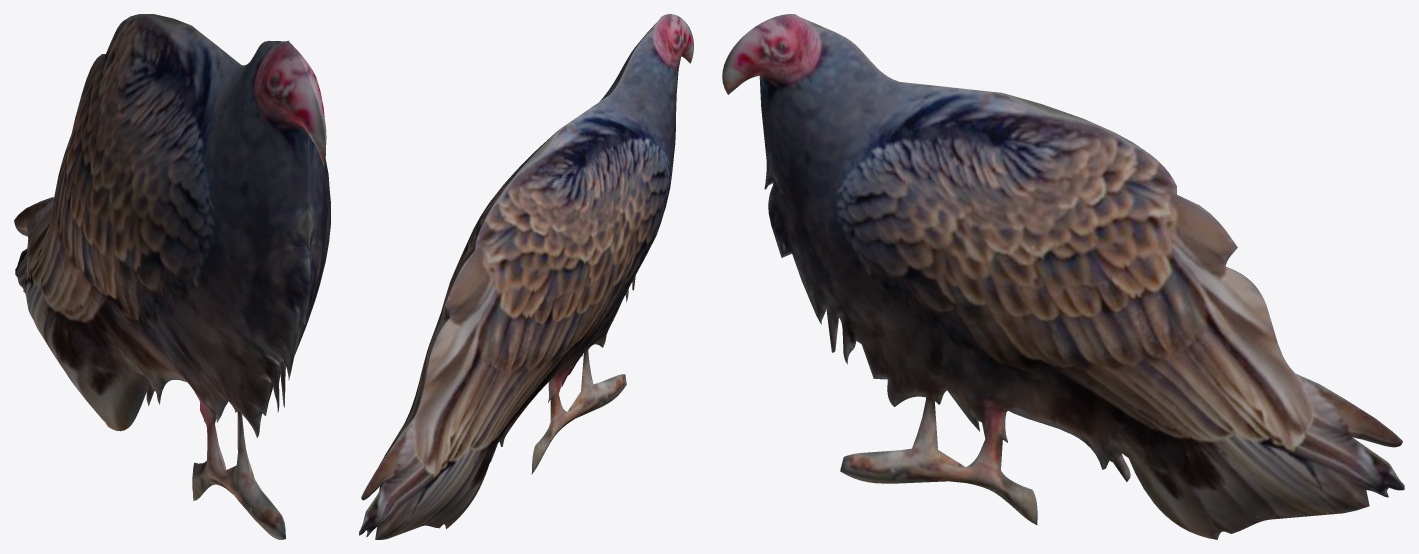
3 renders of one model, left to right at view 1: azimuth 30°, elevation 25°; view 2: azimuth 150°, elevation 25°; view 3: azimuth 270°, elevation 25°, orthographic. The views are drawn at different scales.
Visible parts, largest first — view 1: node1; view 2: node1; view 3: node1.
Part boxes in pixels (<box>): node1: <box>14,14,330,539</box>; node1: <box>359,14,693,539</box>; node1: <box>722,14,1404,539</box>.
Bounding box in the file's own units: 0.3043 × 0.9589 × 1.19.
1 material, 1 textured.
